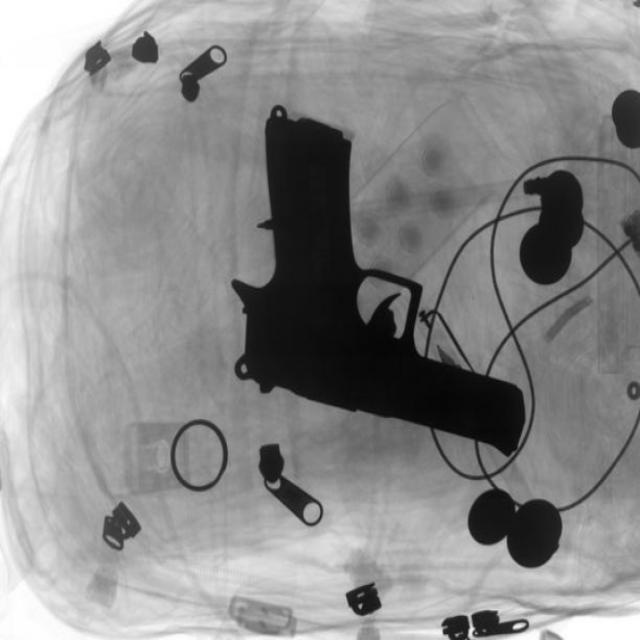GUN: (237, 125, 524, 469)
